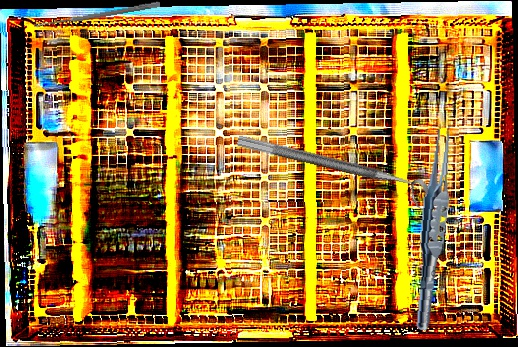Fixation Ring: (232, 133, 431, 211)
Surgical Spoon: (33, 0, 161, 30)
Tissue Forceps: (410, 120, 458, 332)
